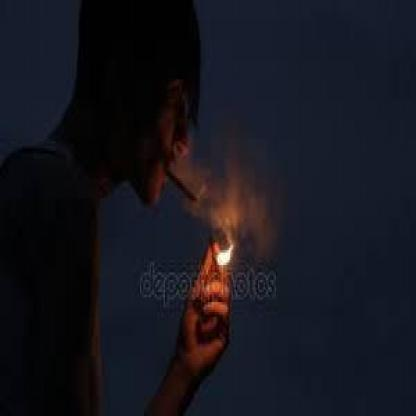fire: (212, 236, 242, 272)
